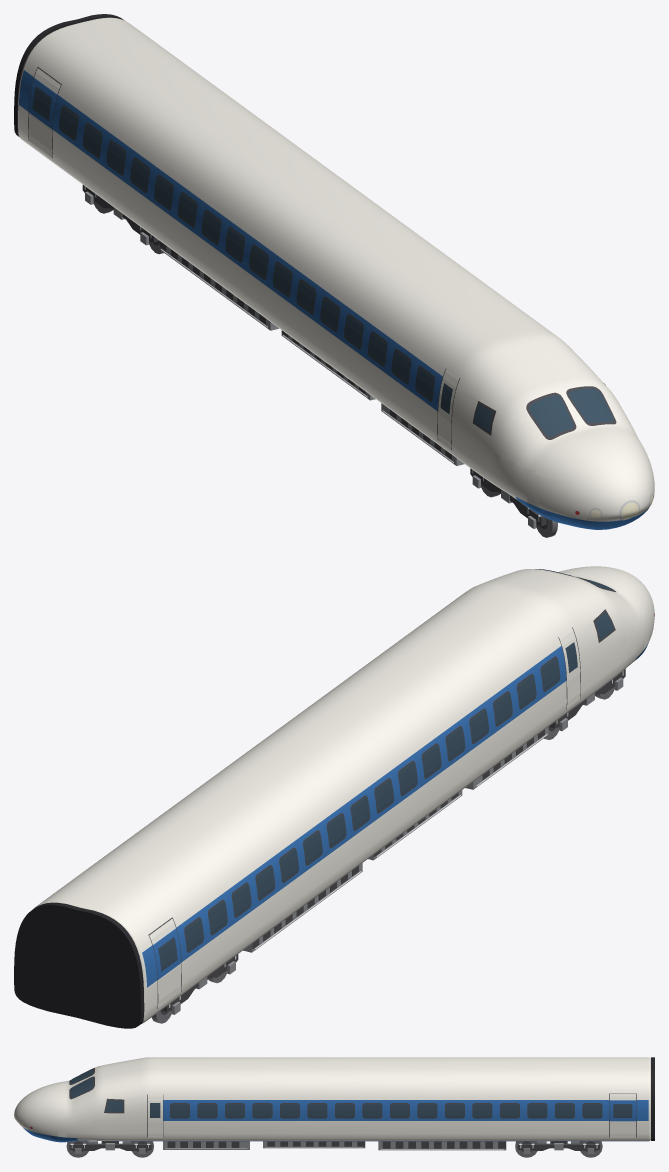
File: 392_close.fbx
3 views of the same model, one above another, from view 1: azimuth 30°, elevation 25°; view 2: azimuth 150°, elevation 25°; view 3: azimuth 270°, elevation 25° (orthographic). The views are drawn at different scales.
Parts seen in each view (by area): view 1: 392_close; view 2: 392_close; view 3: 392_close.
Boxes of the visible parts, x1,y1,x2,y2 form: 392_close: (14, 14, 654, 537); 392_close: (14, 566, 654, 1028); 392_close: (14, 1057, 654, 1157).
Size of the model in its own units: 3.38 by 3.62 by 25.01.
